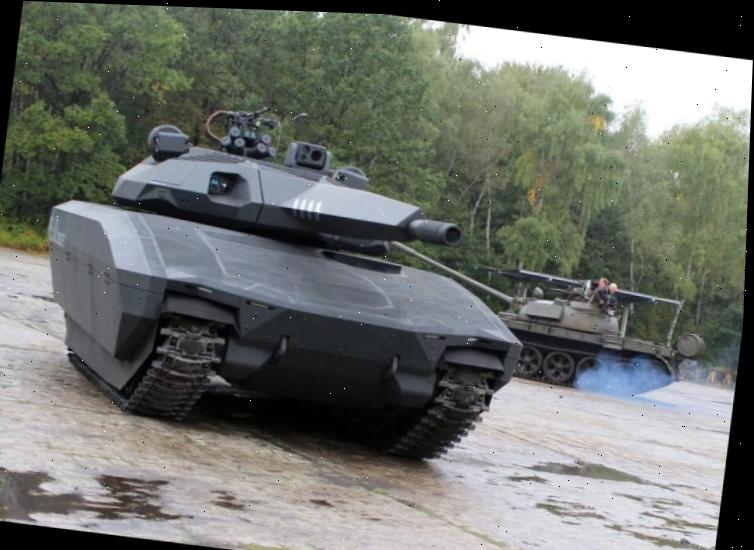tank: (22, 82, 549, 477), (474, 270, 710, 426)
